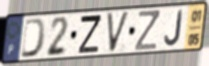2: (47, 15, 71, 58)
D: (19, 17, 48, 60)
J: (163, 9, 184, 48)
V: (105, 10, 132, 55)
Z: (133, 10, 161, 53), (77, 14, 103, 55)
